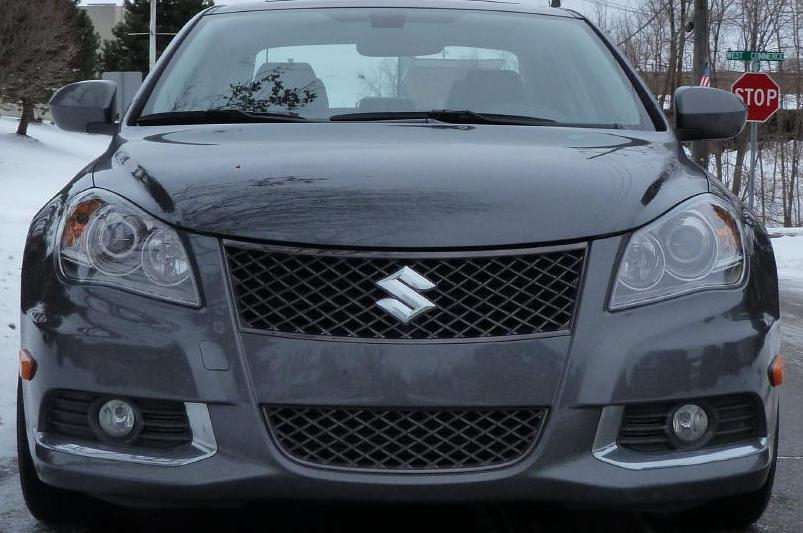front_view: (46, 174, 769, 486)
headlight: (613, 167, 750, 311)
